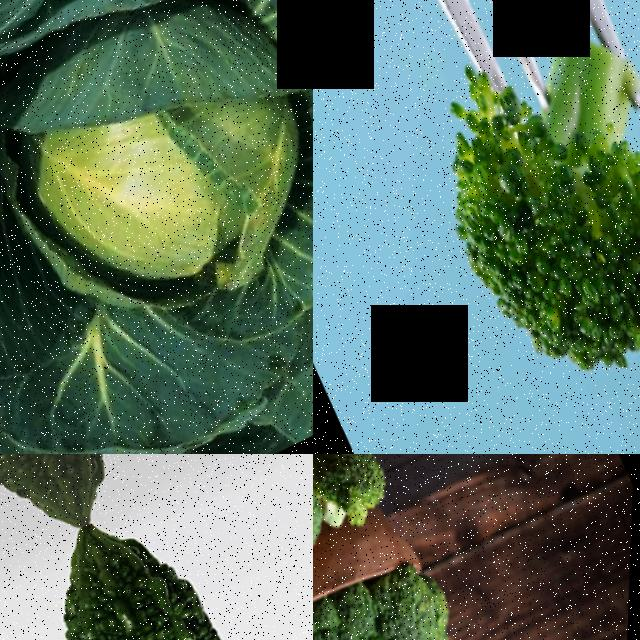bitter gourd: (0, 455, 313, 640)
broccoli: (397, 17, 640, 438), (313, 569, 486, 640), (313, 454, 413, 545)
cabbage: (0, 0, 313, 430)
